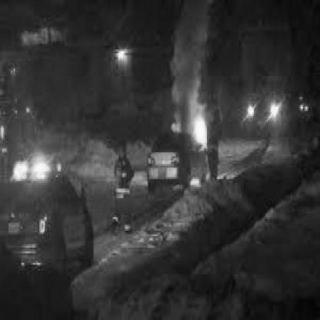Fire: (159, 33, 239, 187)
